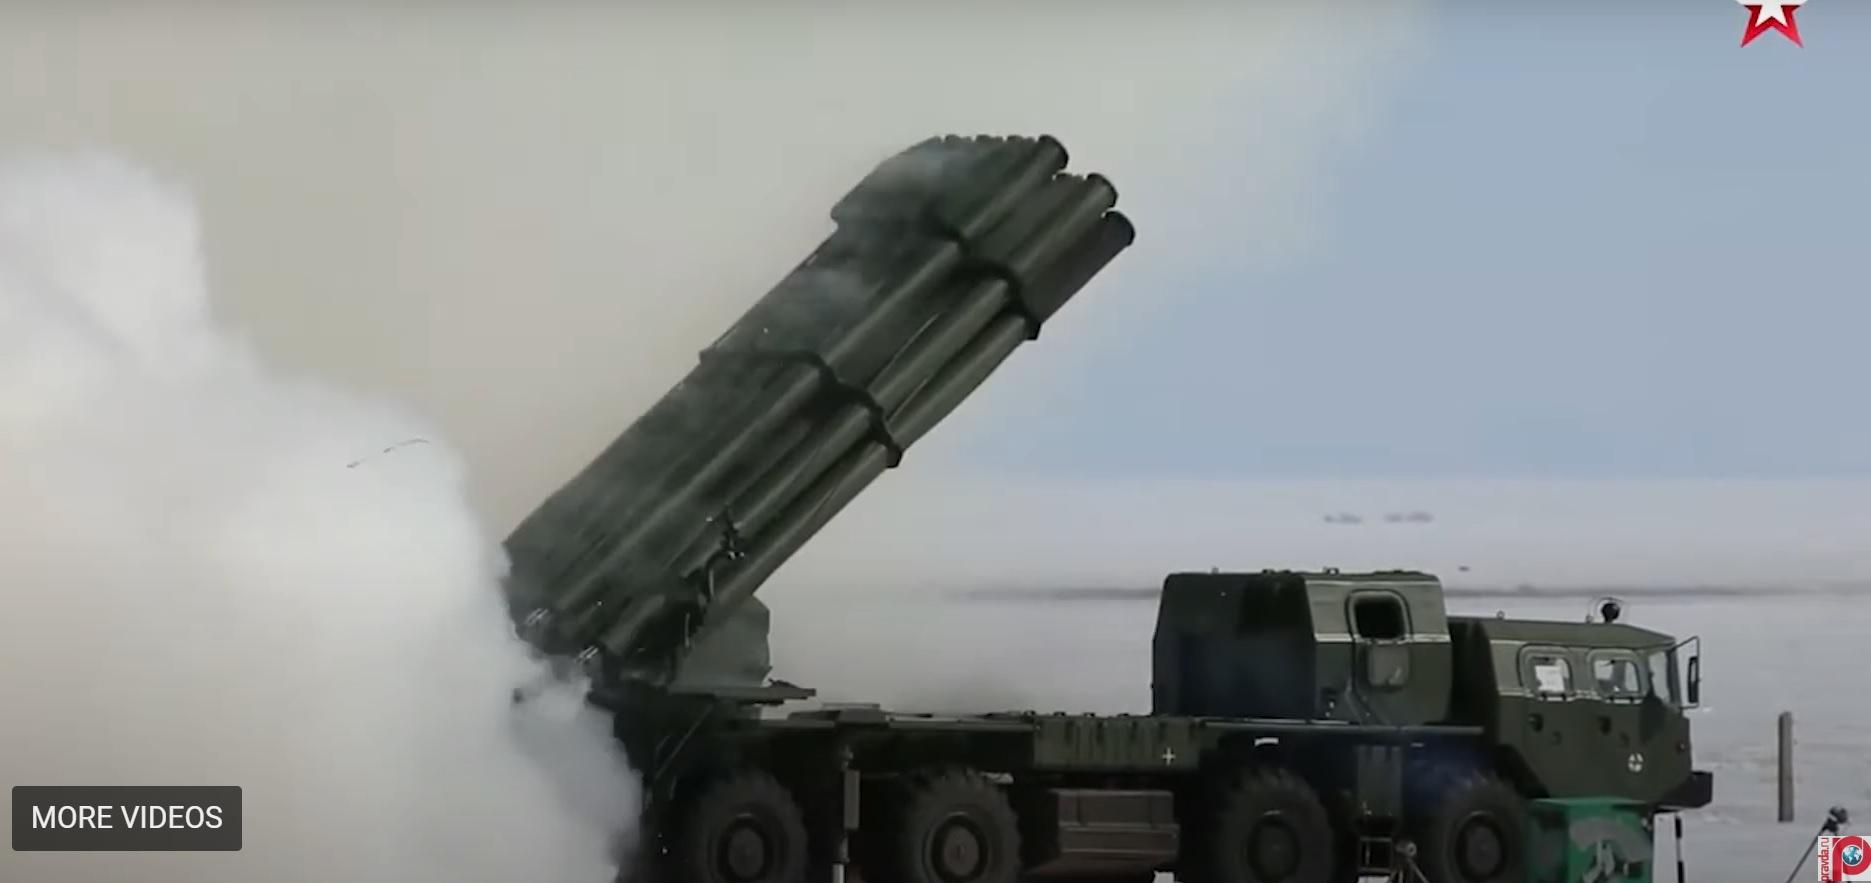MIL_SAM_TEL: (490, 103, 1716, 883)
